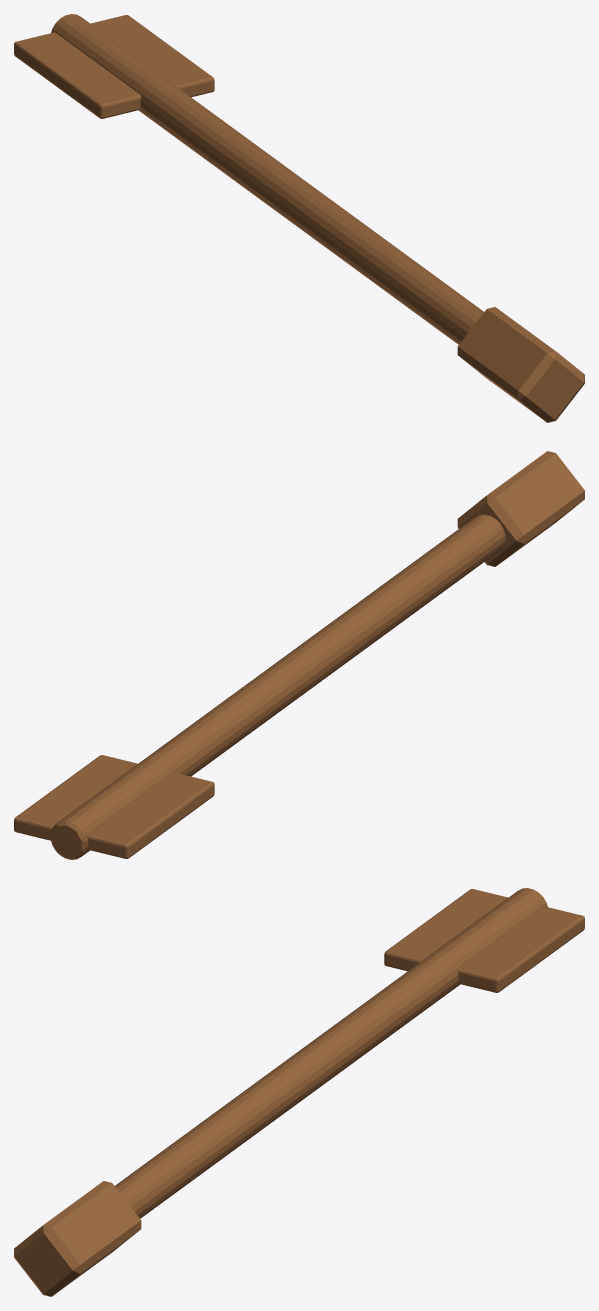
File: AuxiliaCrossbowBolt.fbx
The picture shows the model from 3 angles, top to bottom: view 1: azimuth 30°, elevation 25°; view 2: azimuth 150°, elevation 25°; view 3: azimuth 330°, elevation 25°; orthographic projection.
Parts seen in each view (by area): view 1: AuxiliaCrossbowBolt_GameExport; view 2: AuxiliaCrossbowBolt_GameExport; view 3: AuxiliaCrossbowBolt_GameExport.
Part boxes in pixels (bbox=[...]): AuxiliaCrossbowBolt_GameExport: bbox=[14, 14, 584, 422]; AuxiliaCrossbowBolt_GameExport: bbox=[14, 451, 584, 859]; AuxiliaCrossbowBolt_GameExport: bbox=[14, 888, 584, 1296].
Size of the model in its own units: 4.9 by 36.1 by 2.84.
